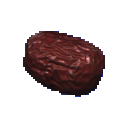gd: (10, 15, 118, 102)
